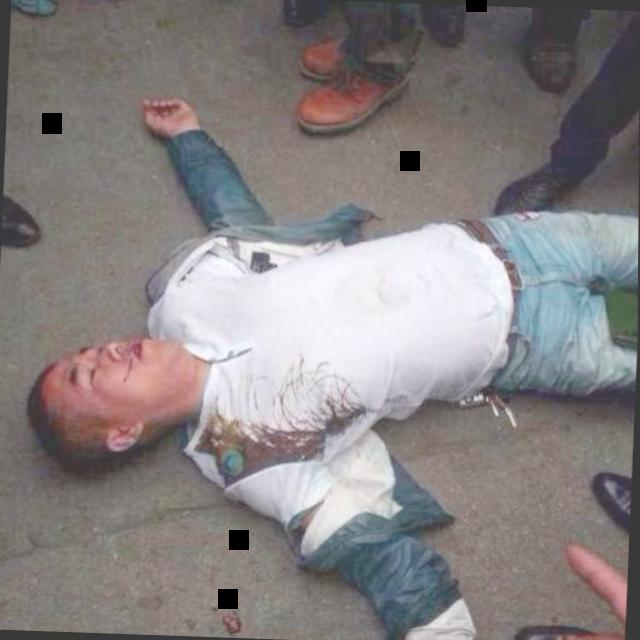Fall-Detected: (0, 37, 640, 640)
